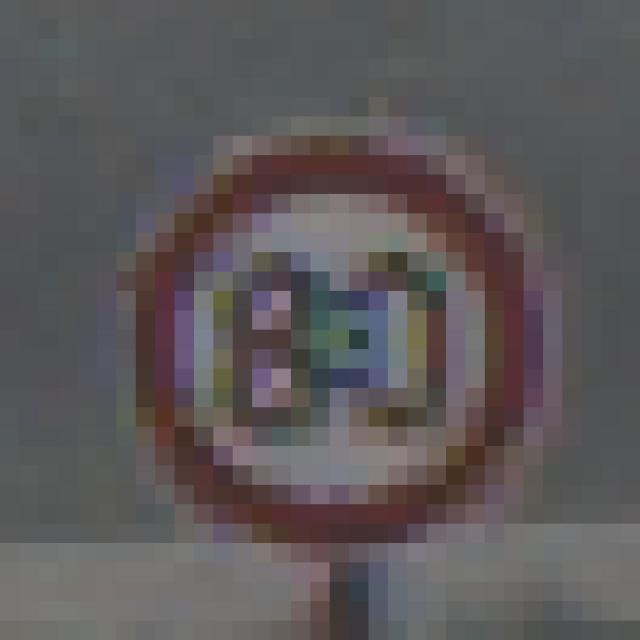Ograniczenie predkosci do 80: (140, 132, 534, 540)
